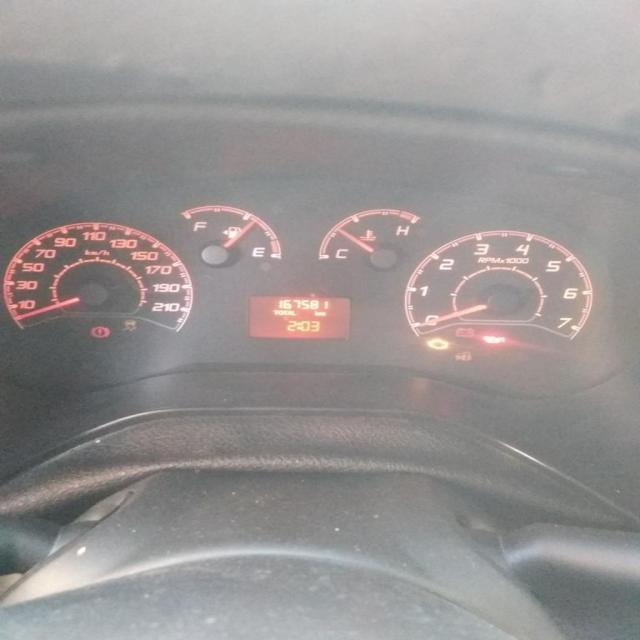odometer: (243, 292, 355, 342)
